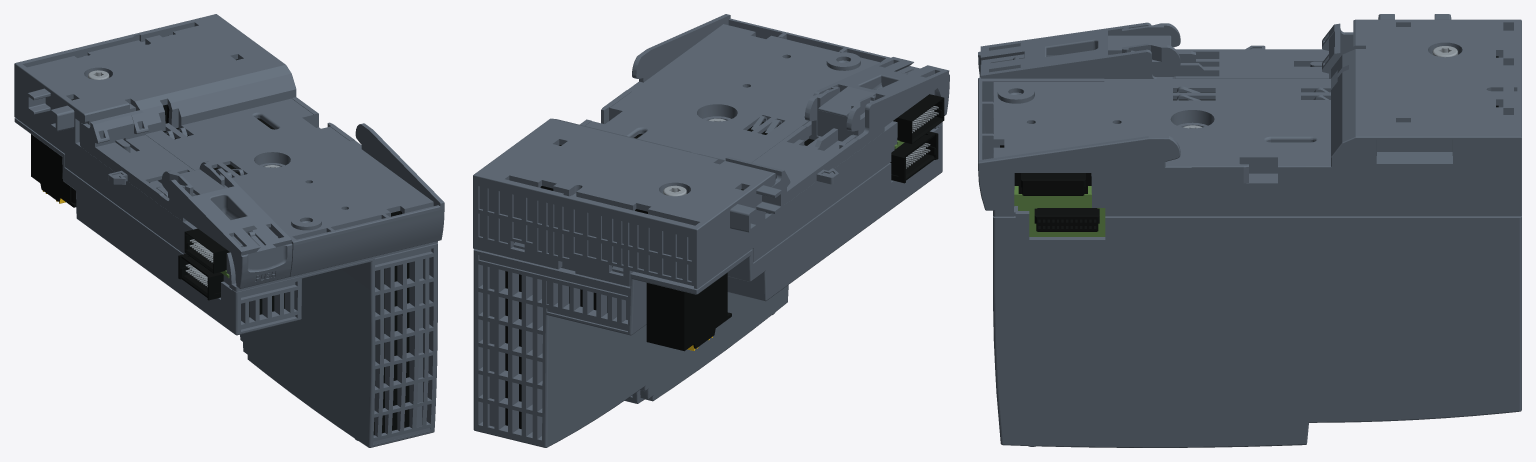
File: cable.glb
3 views of the same model, side by side, from view 1: azimuth 30°, elevation 25°; view 2: azimuth 150°, elevation 25°; view 3: azimuth 270°, elevation 25° (orthographic). The views are drawn at different scales.
Visible parts, largest first — view 1: 6GK19000MB000AC0_PART65, 6GK19000MB000AC0_PART63, 6GK19000MB000AC0_PART64; view 2: 6GK19000MB000AC0_PART65, 6GK19000MB000AC0_PART63, 6GK19000MB000AC0_PART64; view 3: 6GK19000MB000AC0_PART65, 6GK19000MB000AC0_PART63.
Boxes of the visible parts, bbox=[...] form: 6GK19000MB000AC0_PART65: bbox=[14, 14, 444, 447]; 6GK19000MB000AC0_PART63: bbox=[80, 110, 292, 288]; 6GK19000MB000AC0_PART64: bbox=[31, 134, 76, 207]; 6GK19000MB000AC0_PART65: bbox=[473, 14, 944, 447]; 6GK19000MB000AC0_PART63: bbox=[725, 57, 949, 214]; 6GK19000MB000AC0_PART64: bbox=[646, 273, 731, 351]; 6GK19000MB000AC0_PART65: bbox=[978, 14, 1521, 447]; 6GK19000MB000AC0_PART63: bbox=[978, 22, 1353, 78].
Bounding box in the file's own units: 0.065 × 0.074 × 0.1171.
